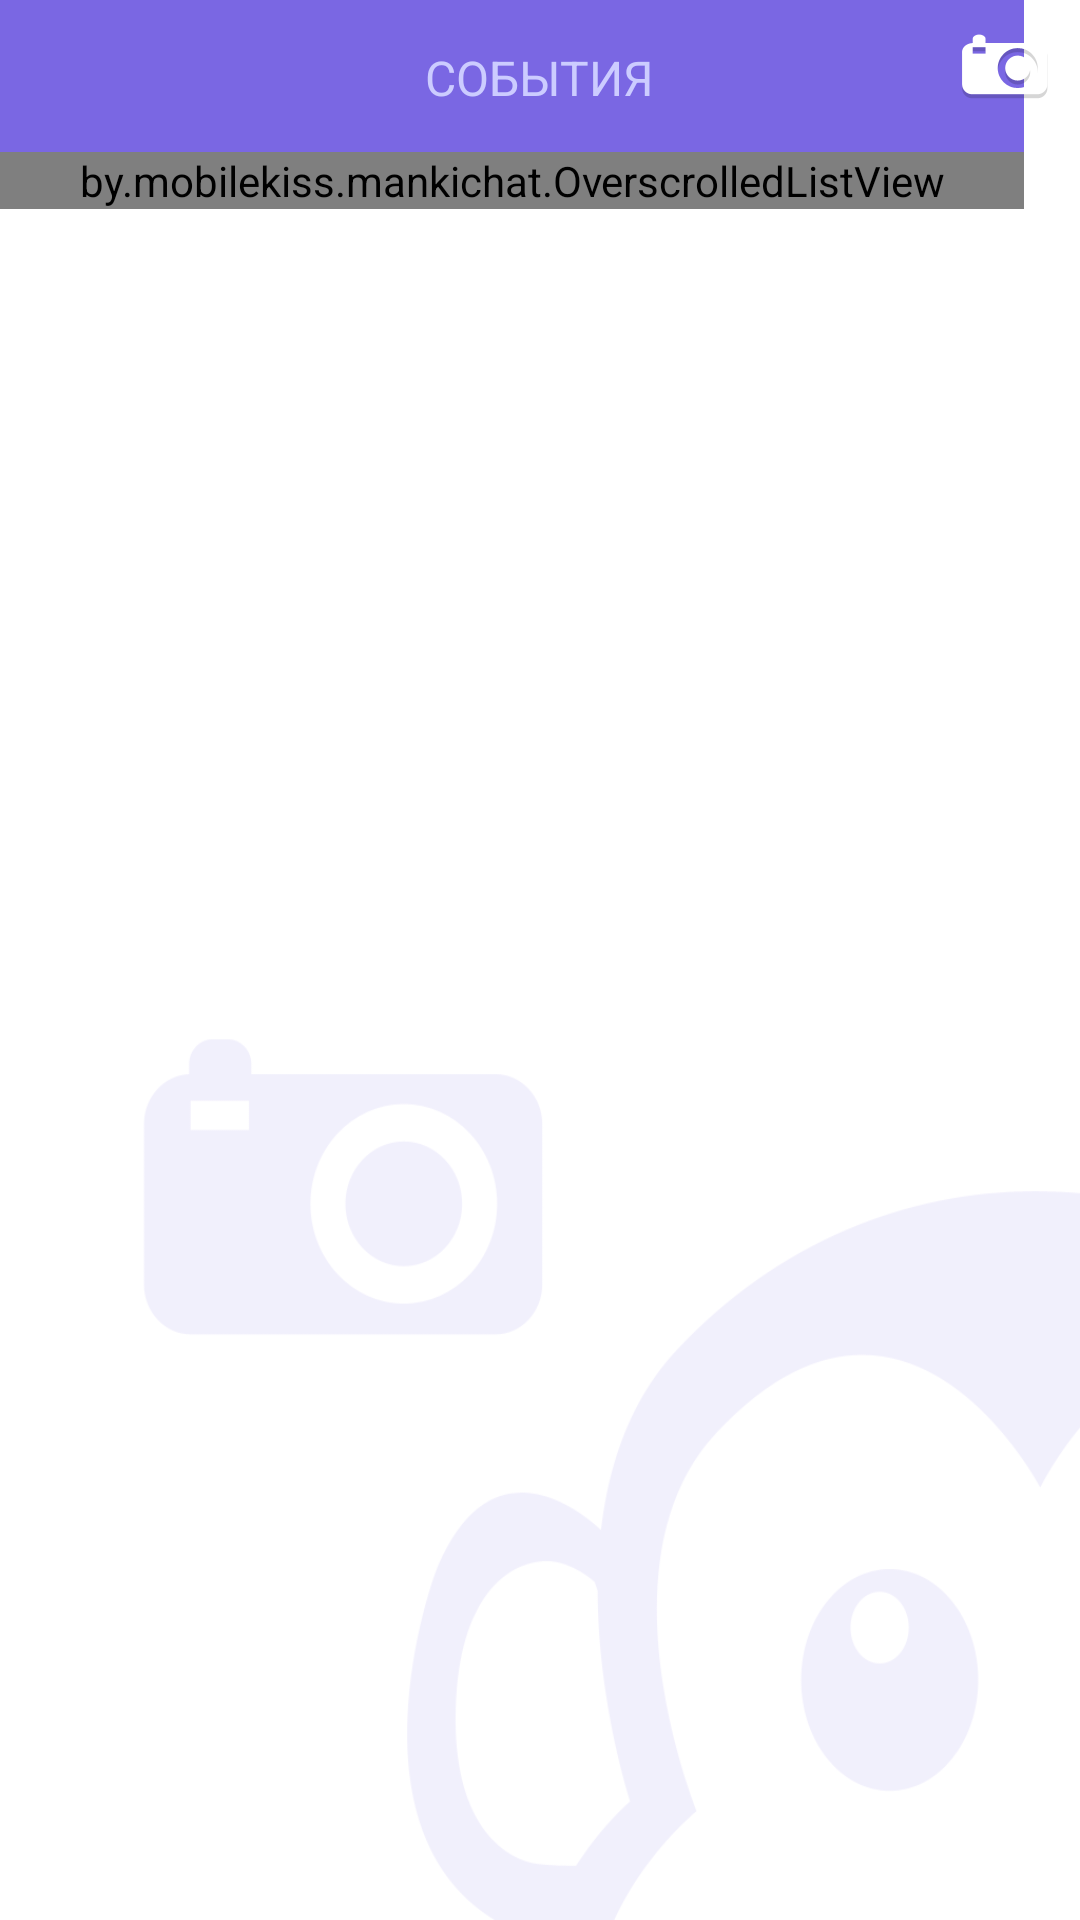

Where to tap for icons on this 1080 × 1920 app screen, as [x,y]:
messages form photo: [1006,65]
